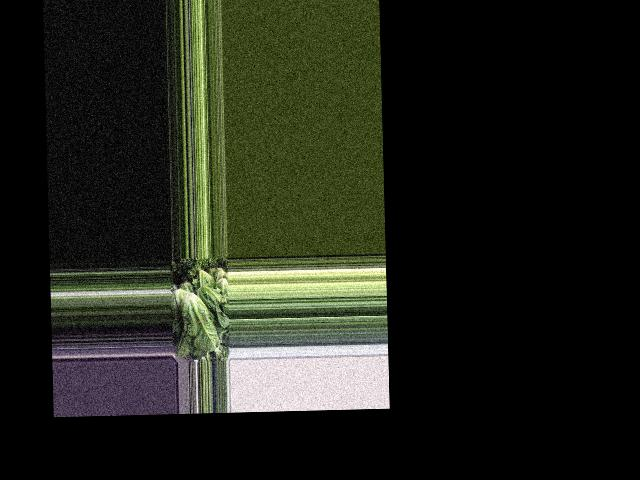lettuce: (197, 283, 227, 330)
